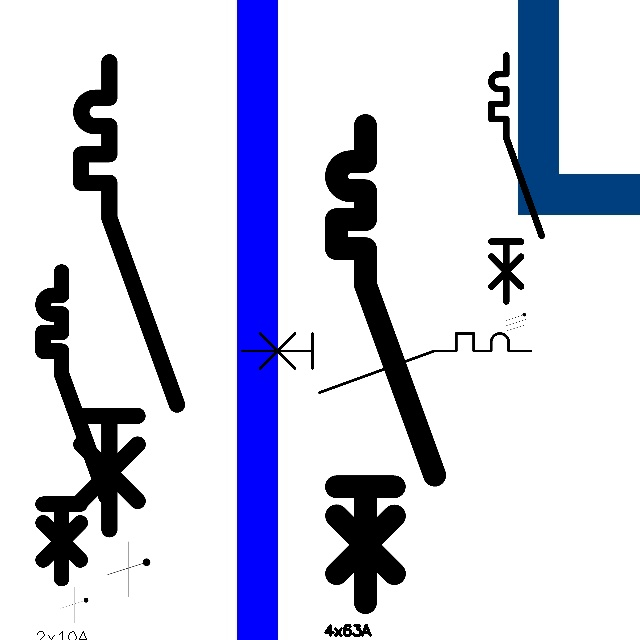interruptor_termomagnetico: (324, 113, 447, 615), (69, 50, 189, 541), (35, 264, 114, 586), (235, 326, 538, 400), (485, 49, 548, 308)
